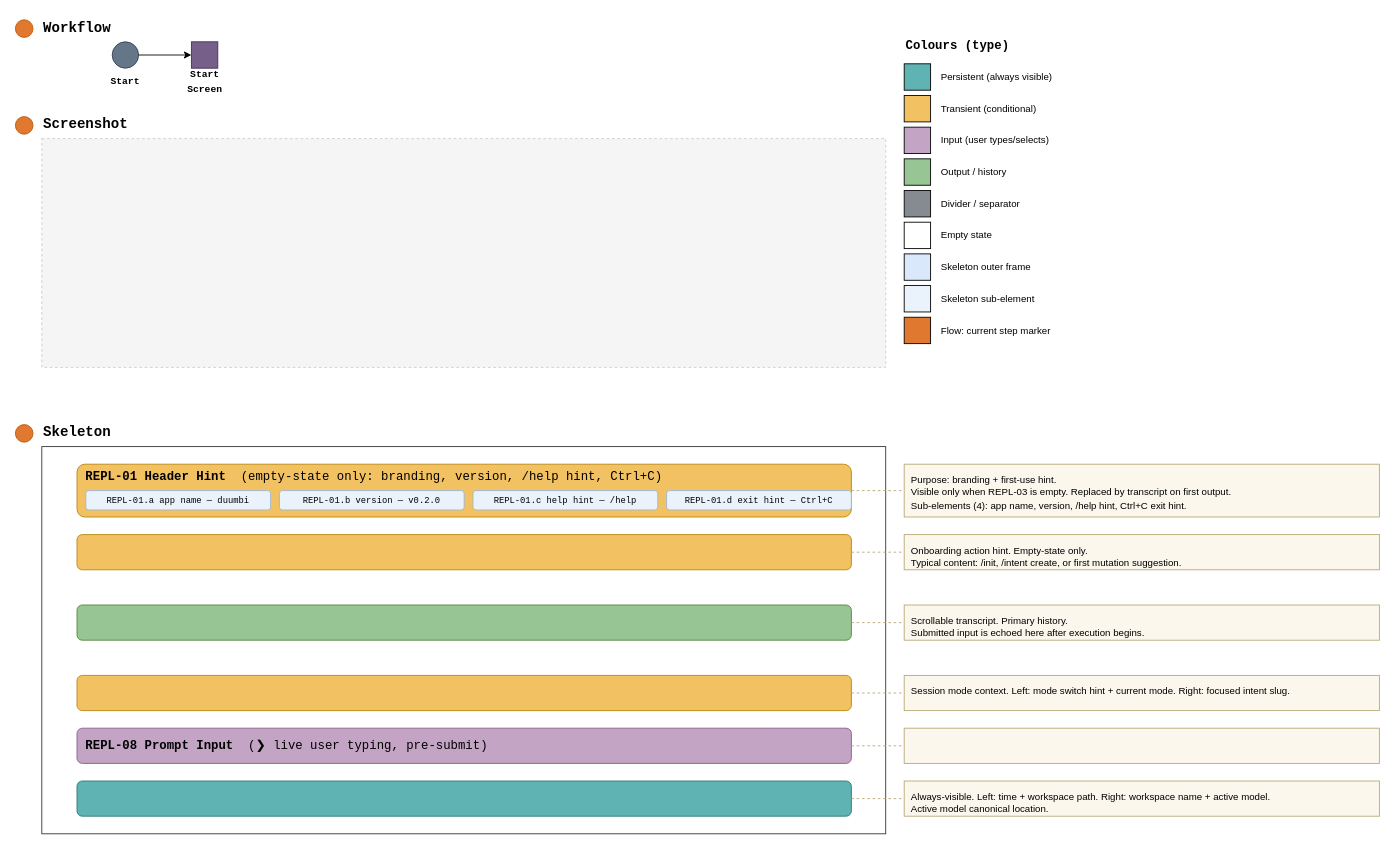
Some shapes in this 1395 by 849 pixel diagram are drawn without their labels. The centre of each missing label's shape, as x and y in pixels:
[ paste terminal screenshot here ]: point 463,252
REPL-02 Empty-State Tip (Tip: run /init or /intent create): point 463,552
REPL-03 Conversation Pane (history, AI replies, command output): point 463,622
REPL-06 Mode Strip (Shift+Tab switches mode — current: agent): point 463,693
REPL-10 Status Bar (10:46 /proj/duumbi duumbi claude-sonnet-4-6): point 463,798
Single-line live input with ❯ prefix. On submit moves to REPL-03.: point 1141,745
